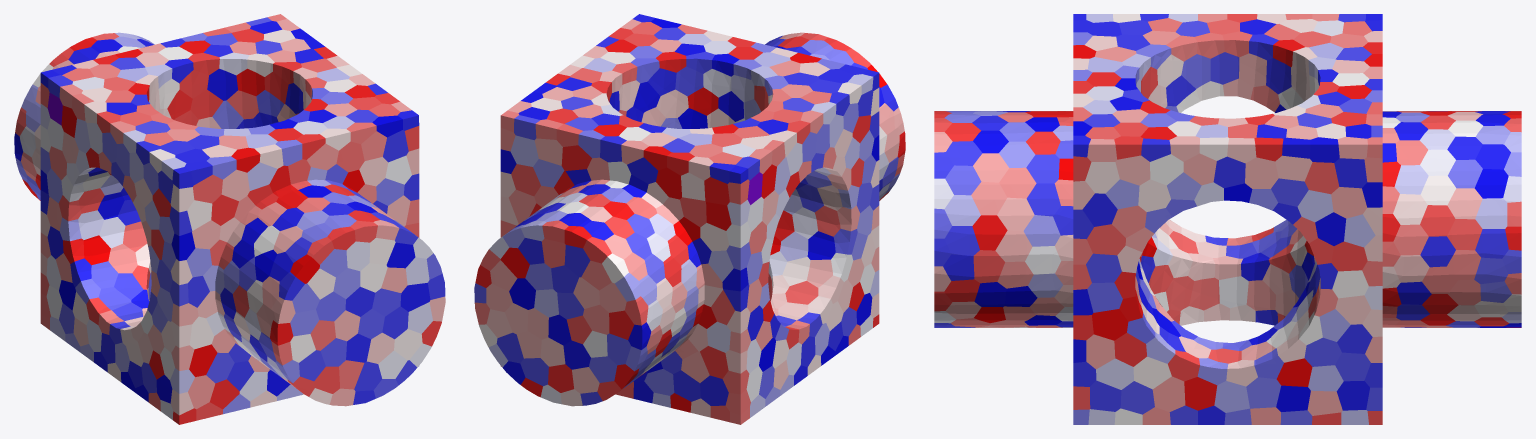
Rendered from Ours_1000_block_Iter23_RVD.obj.
3 views of the same model, side by side, from view 1: azimuth 30°, elevation 25°; view 2: azimuth 150°, elevation 25°; view 3: azimuth 270°, elevation 25° (orthographic). The views are drawn at different scales.
Parts seen in each view (by area): view 1: 3D_Object; view 2: 3D_Object; view 3: 3D_Object.
Part boxes in pixels (x1,y1,x2,y2): 3D_Object: (14,14,445,424); 3D_Object: (474,14,905,424); 3D_Object: (934,14,1521,424).
Size of the model in its own units: 20 by 20 by 38.
1 material, 1 textured.
